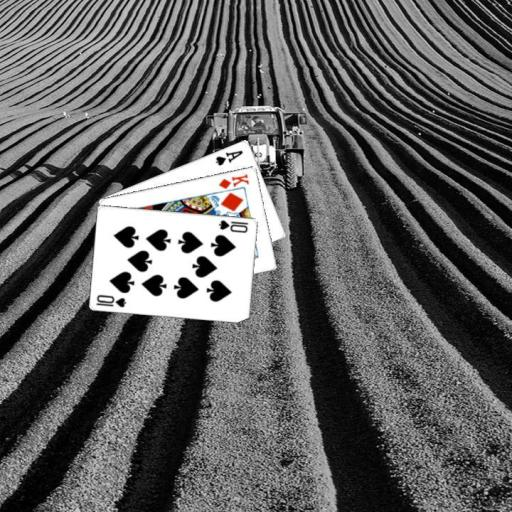10S: (216, 216, 250, 234), (93, 292, 128, 309)
AS: (213, 147, 245, 167)
KD: (216, 171, 251, 190)
